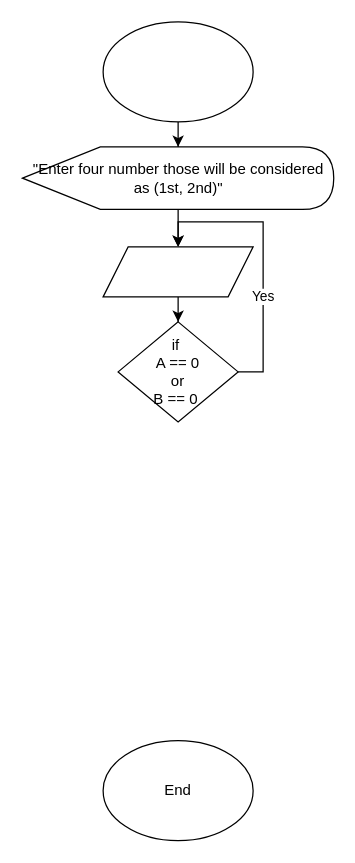
This 355x863 diagram has some shape labels left out. The centre of each missing label's shape, as x and y in pixels:
"first <- input second <- input" goes at point 177,271.
"Start" goes at point 177,71.
